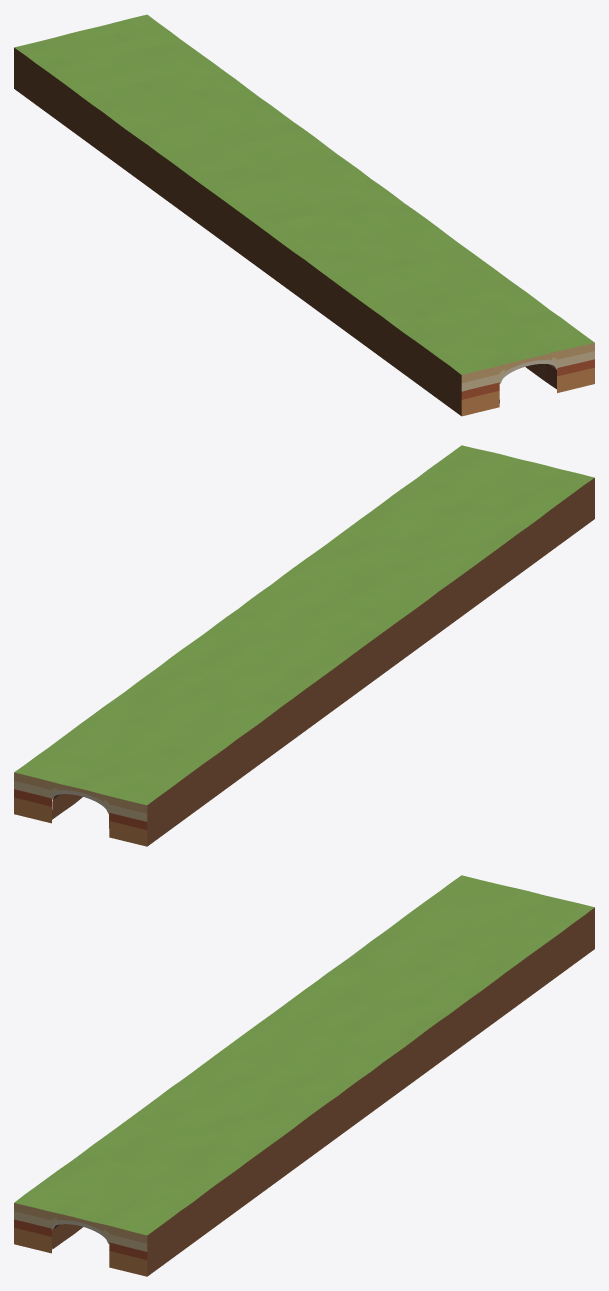
Rendered from tunel_g1.glb.
The picture shows the model from 3 angles, top to bottom: view 1: azimuth 30°, elevation 25°; view 2: azimuth 150°, elevation 25°; view 3: azimuth 330°, elevation 25°; orthographic projection.
Visible parts, largest first — view 1: tunel_g1; view 2: tunel_g1; view 3: tunel_g1.
Boxes of the visible parts, x1,y1,x2,y2 form: tunel_g1: (14, 14, 594, 416); tunel_g1: (14, 445, 594, 846); tunel_g1: (14, 875, 594, 1276).
Bounding box in the file's own units: 84 × 25.29 × 490.
